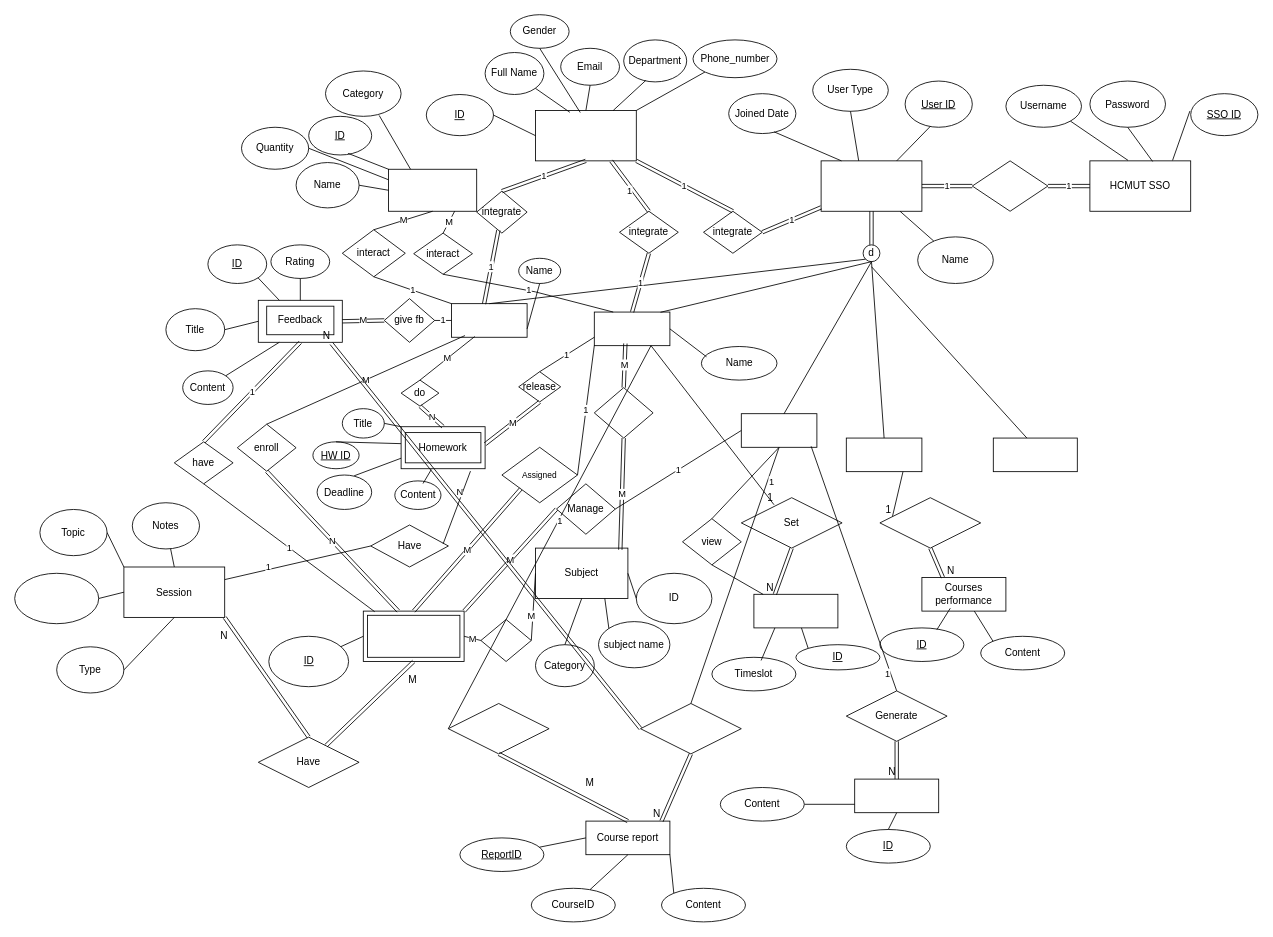
Some shapes in this 1273 by 937 pixel diagram are drawn without their labels. The shapes that lost their labels are listed below. From the top down, each one's centre as x and y in pixels, then its label:
At point 585,135: "HCMUT DATACORE".
At point 432,189: "HCMUT LIBRARY".
At point 871,185: "Users".
At point 1009,185: "authenticate".
At point 489,320: "Student".
At point 631,328: "Tutor".
At point 623,412: "Register".
At point 778,430: "Coordinator".
At point 883,454: "Department Chair".
At point 1034,454: "Adminstrator".
At point 930,522: "Analyze".
At point 56,598: "Time".
At point 795,610: "Availability".
At point 413,635: "Course".
At point 505,640: "about".
At point 498,728: "Write".
At point 690,728: "Handle".
At point 896,795: "Course aggeration".
